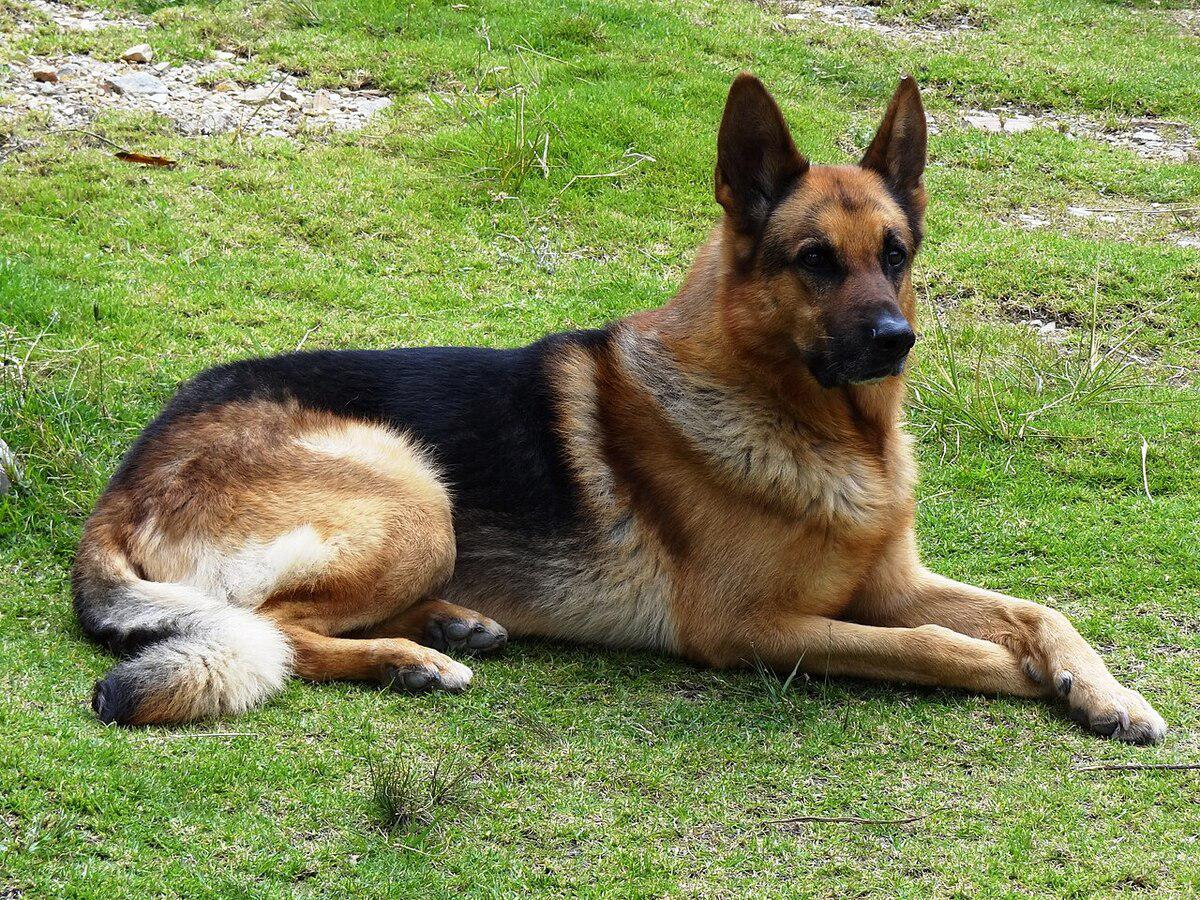dog: (49, 64, 1173, 749)
